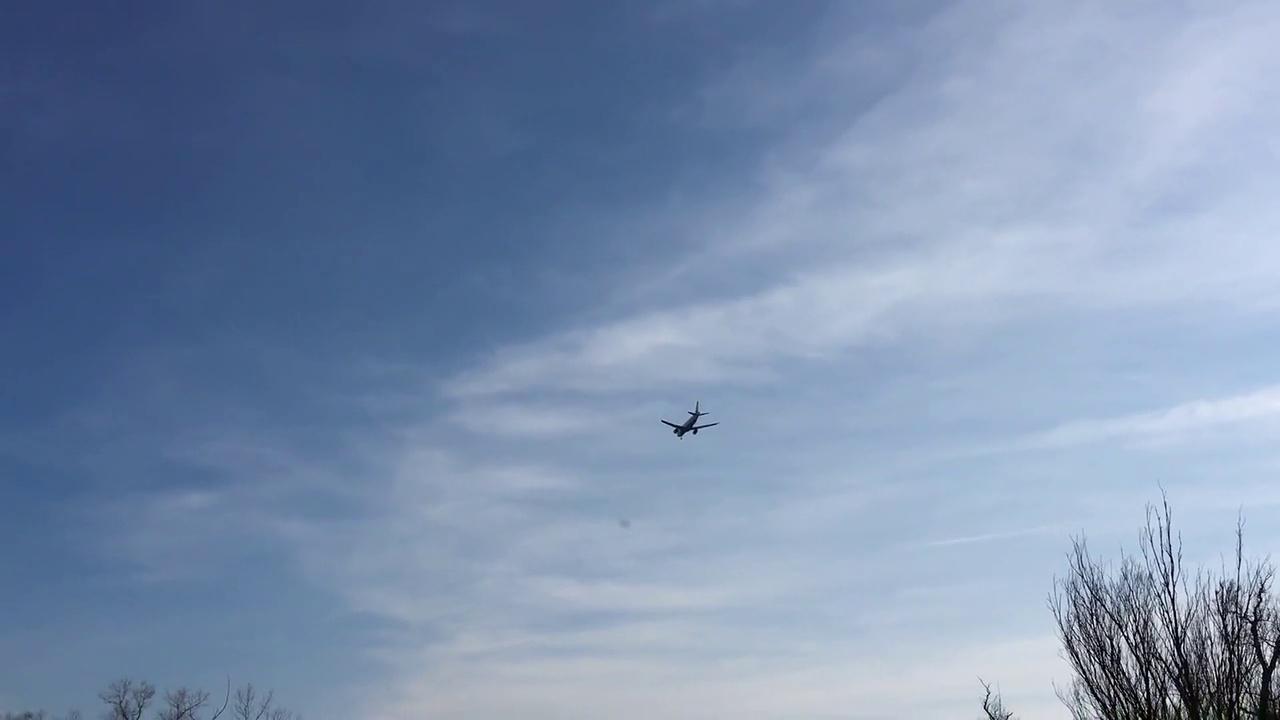plane: (660, 402, 717, 439)
